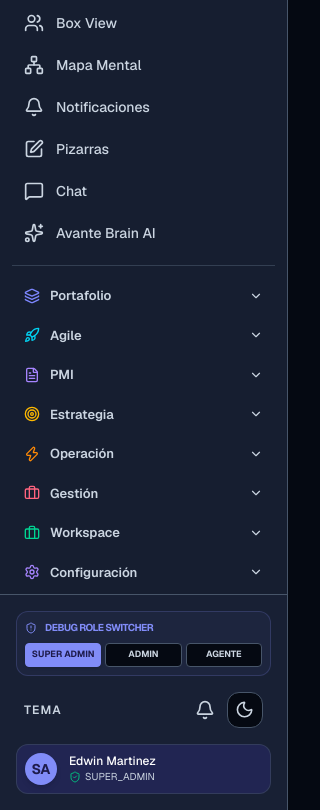
it: Sidebar · filtrado por rol › AGENTE oculta los grupos Configuración y Workspace
(page scrolled)
Expected: the button "Configuración" is shown, top-left (12, 554), bottom-right (275, 590)
Click the button "AGENTE".
click(224, 655)  # box top-left (186, 643), bottom-right (262, 666)
(page scrolled)
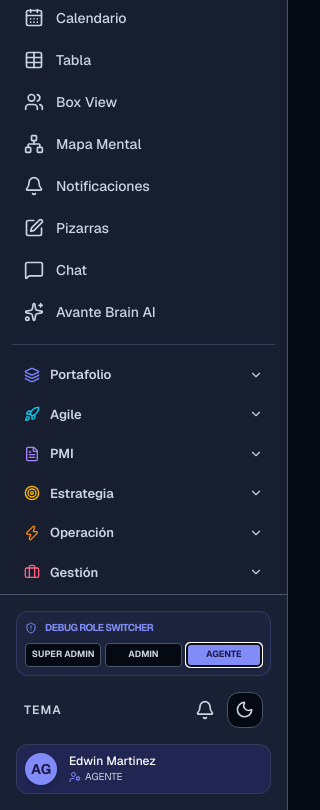
Expected: the button "Estrategia" is shown, top-left (12, 476), bottom-right (275, 511)
Now the button "Configuración" is gone
Now the button "Workspace" is gone
